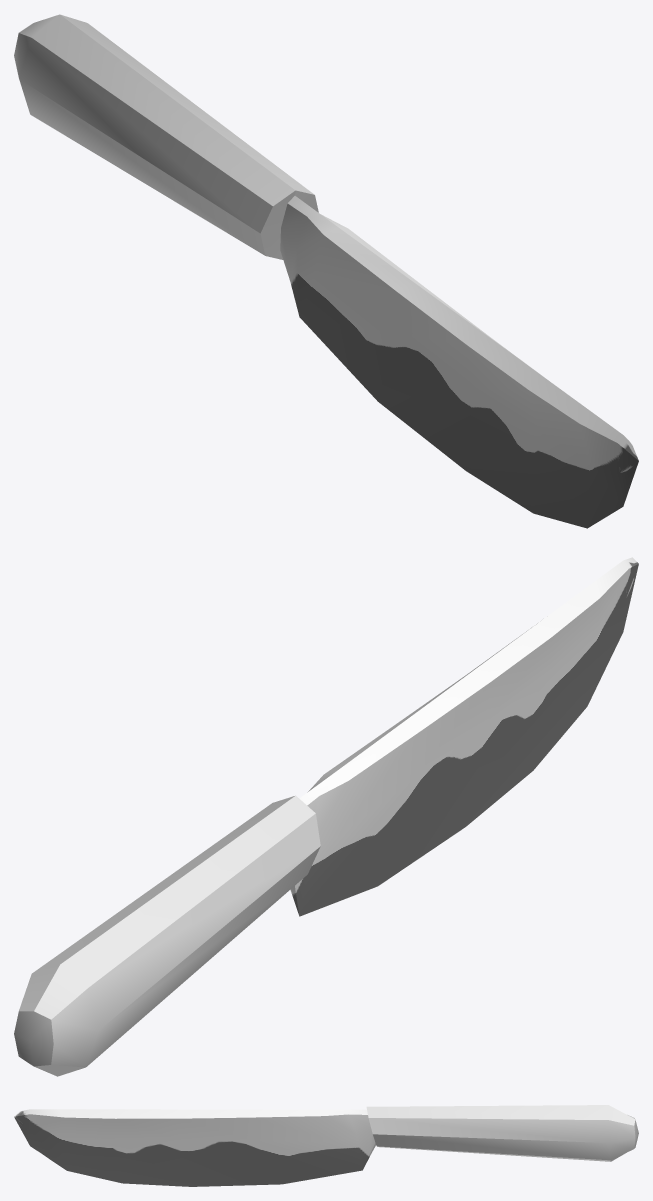
Rendered from knife2.fbx.
3 views of the same model, one above another, from view 1: azimuth 30°, elevation 25°; view 2: azimuth 150°, elevation 25°; view 3: azimuth 270°, elevation 25° (orthographic). The views are drawn at different scales.
Parts seen in each view (by area): view 1: Cube; view 2: Cube; view 3: Cube.
Boxes of the visible parts, x1,y1,x2,y2 form: Cube: (14, 14, 638, 528); Cube: (14, 557, 638, 1076); Cube: (14, 1105, 638, 1186).
Bounding box in the file's own units: 20.49 × 39.32 × 272.
2 materials, 1 textured.
